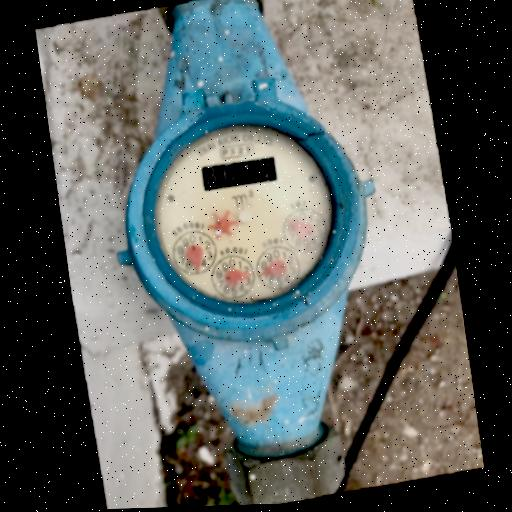0: (256, 157, 278, 182)
1: (238, 159, 258, 185)
3: (201, 165, 222, 191)
6: (221, 162, 241, 188)
border_water_meter_number: (201, 156, 277, 192)
